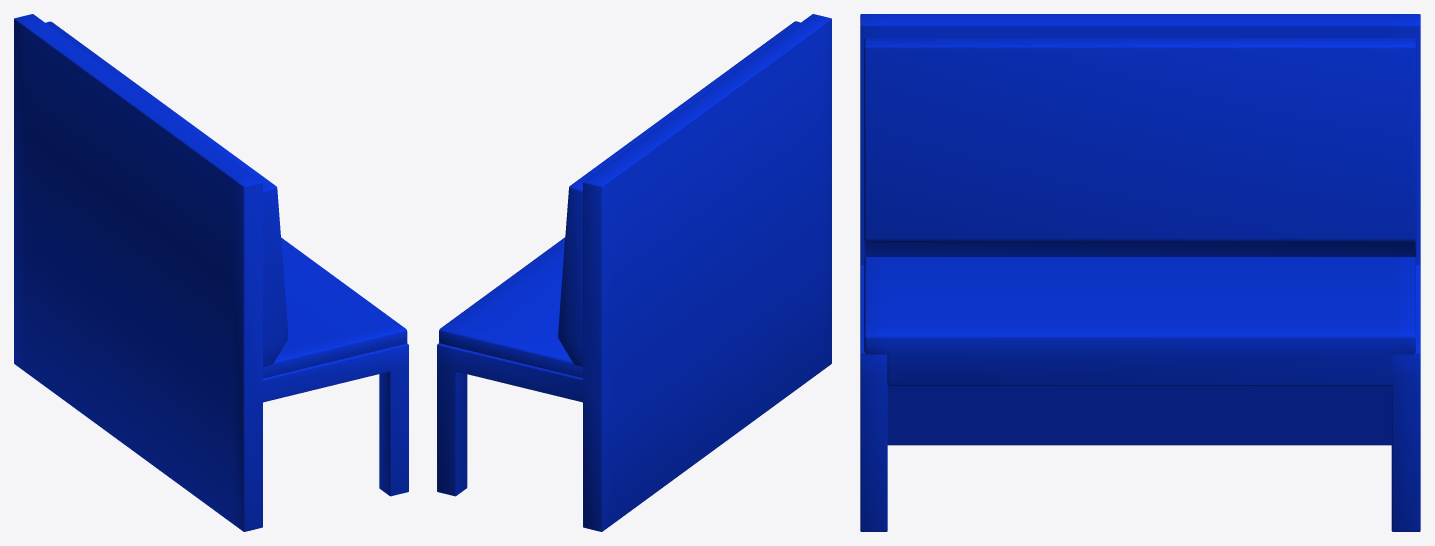
File: Cadeira_trem01 (1).fbx
3 views of the same model, side by side, from view 1: azimuth 30°, elevation 25°; view 2: azimuth 150°, elevation 25°; view 3: azimuth 270°, elevation 25° (orthographic). The views are drawn at different scales.
Parts seen in each view (by area): view 1: Contorno01, Acento01, Encosto01; view 2: Contorno01, Acento01, Encosto01; view 3: Encosto01, Acento01, Contorno01.
Boxes of the visible parts, left/top/right/bottom form: Contorno01: left=14, top=14, right=408, bottom=531; Acento01: left=263, top=237, right=407, bottom=378; Encosto01: left=45, top=21, right=288, bottom=366; Contorno01: left=437, top=14, right=831, bottom=531; Acento01: left=439, top=237, right=582, bottom=377; Encosto01: left=557, top=21, right=800, bottom=366; Encosto01: left=864, top=38, right=1416, bottom=257; Acento01: left=864, top=257, right=1415, bottom=385; Contorno01: left=860, top=14, right=1420, bottom=531.
Bounding box in the file's own units: 849 × 1693 × 2044.
